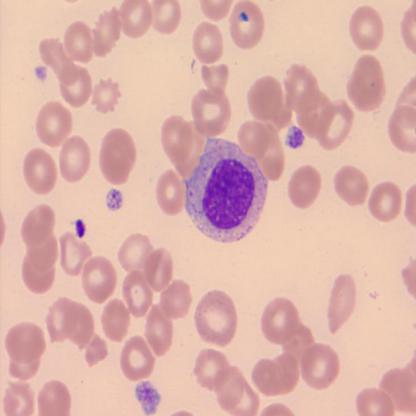Myelocyte: (183, 141, 268, 242)
